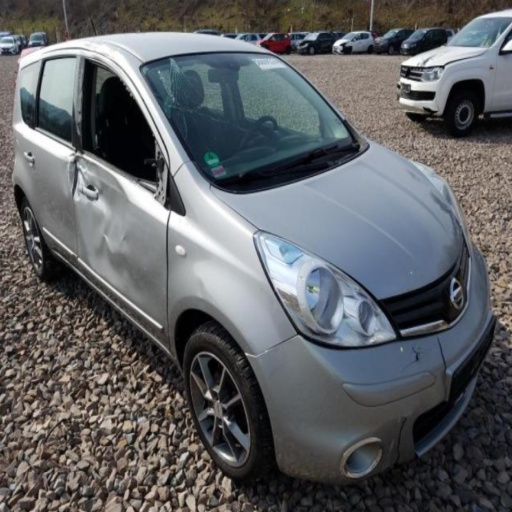dent: (72, 152, 153, 316), (74, 56, 85, 153), (84, 39, 123, 62), (64, 149, 76, 202)
scratch: (390, 417, 411, 465), (398, 345, 427, 372), (81, 54, 114, 71), (439, 336, 447, 375)
